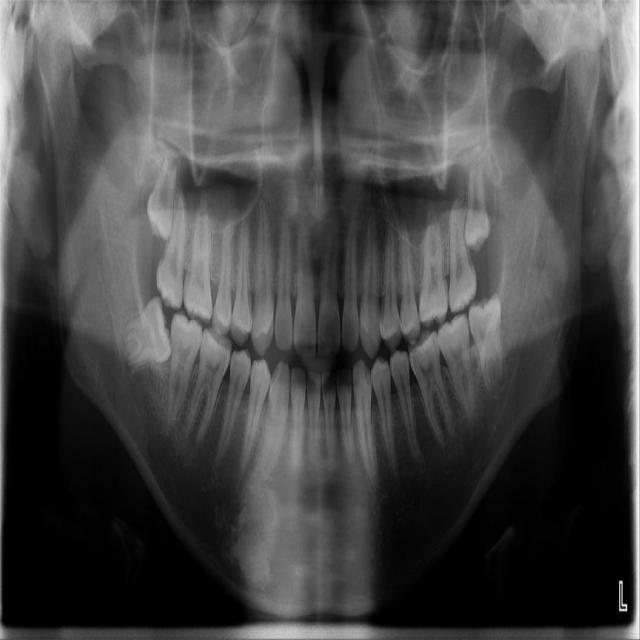impacted tooth: (120, 299, 170, 367), (470, 294, 505, 391), (147, 151, 177, 238), (466, 148, 489, 249)
